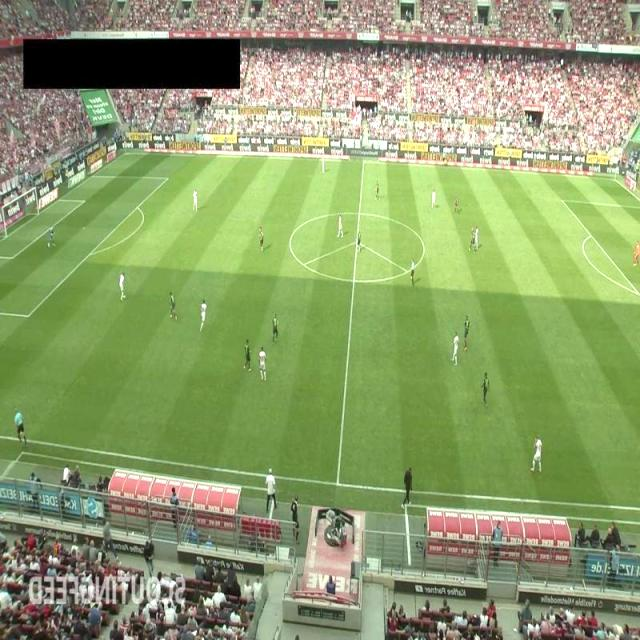bigarea_bottom_inner: (22, 308, 34, 323)
bigarea_top_inner: (162, 173, 173, 184), (558, 197, 566, 206)
bigarea_top_outter: (87, 170, 98, 182)
bottom_arc_area_intersection: (82, 246, 99, 262), (636, 287, 640, 300)
corner: (120, 148, 131, 158), (610, 178, 619, 182)
halfcircle_bottom: (348, 276, 359, 286)
halfcircle_top: (354, 208, 364, 218)
midline_bottom_intersection: (330, 475, 344, 493)
midline_top_intersection: (358, 156, 369, 167)
smallarea_bottom_inner: (8, 252, 18, 264)
smallarea_top_inner: (78, 196, 90, 207)
smallarea_top_outter: (52, 195, 64, 206)
top_arc_area_intersection: (132, 203, 142, 214), (586, 231, 596, 241)
